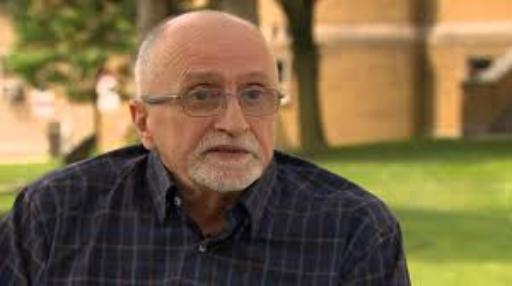left_eye: (238, 91, 269, 102)
left_lip_corner: (243, 150, 255, 158)
right_eye: (186, 92, 225, 103)
right_lip_corner: (202, 148, 216, 158)
